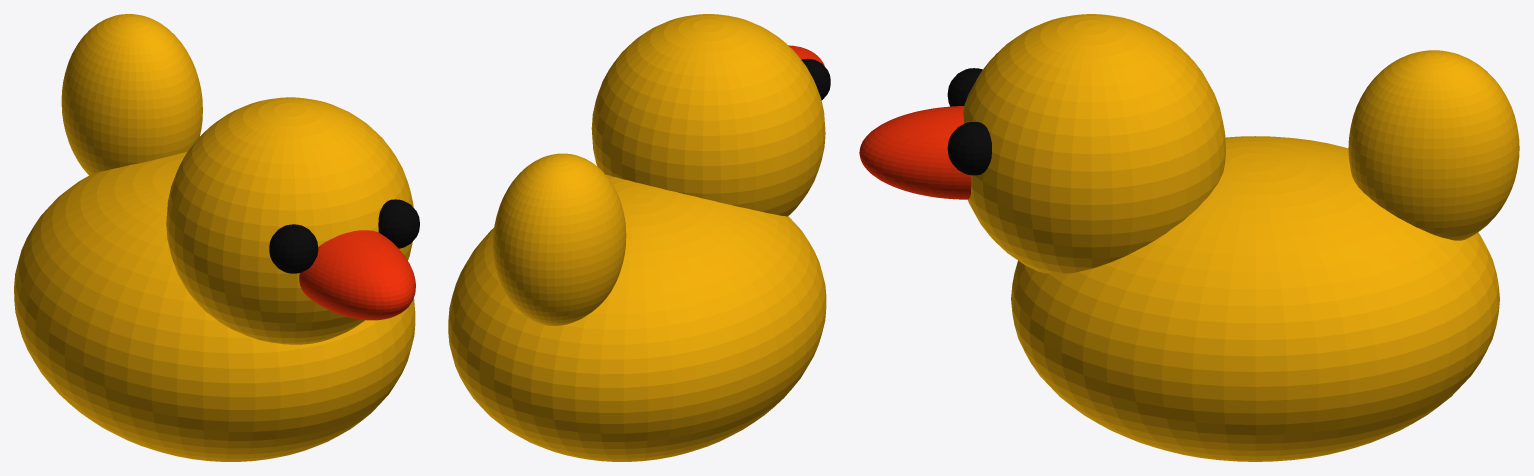
The picture shows the model from 3 angles, left to right: view 1: azimuth 30°, elevation 25°; view 2: azimuth 150°, elevation 25°; view 3: azimuth 270°, elevation 25°; orthographic projection. The views are drawn at different scales.
Parts seen in each view (by area): view 1: group_1_mat_body, group_2_mat_body, group_3_mat_body, group_4_mat_beak, group_6_mat_eye, group_5_mat_eye; view 2: group_1_mat_body, group_2_mat_body, group_3_mat_body, group_6_mat_eye; view 3: group_1_mat_body, group_2_mat_body, group_3_mat_body, group_4_mat_beak, group_5_mat_eye, group_6_mat_eye.
Boxes of the visible parts, bbox=[...] form: group_1_mat_body: bbox=[14, 152, 415, 461]; group_2_mat_body: bbox=[166, 97, 413, 344]; group_3_mat_body: bbox=[61, 14, 202, 175]; group_4_mat_beak: bbox=[299, 230, 415, 320]; group_6_mat_eye: bbox=[269, 224, 318, 273]; group_5_mat_eye: bbox=[378, 199, 419, 248]; group_1_mat_body: bbox=[448, 174, 826, 461]; group_2_mat_body: bbox=[591, 14, 825, 216]; group_3_mat_body: bbox=[493, 153, 626, 325]; group_6_mat_eye: bbox=[801, 58, 830, 100]; group_1_mat_body: bbox=[1011, 136, 1499, 461]; group_2_mat_body: bbox=[963, 14, 1225, 274]; group_3_mat_body: bbox=[1348, 50, 1519, 240]; group_4_mat_beak: bbox=[859, 106, 971, 199]; group_5_mat_eye: bbox=[947, 122, 991, 175]; group_6_mat_eye: bbox=[947, 68, 982, 106].
Size of what is drawn, in the model's own units: 1.7 by 1.85 by 2.7.
